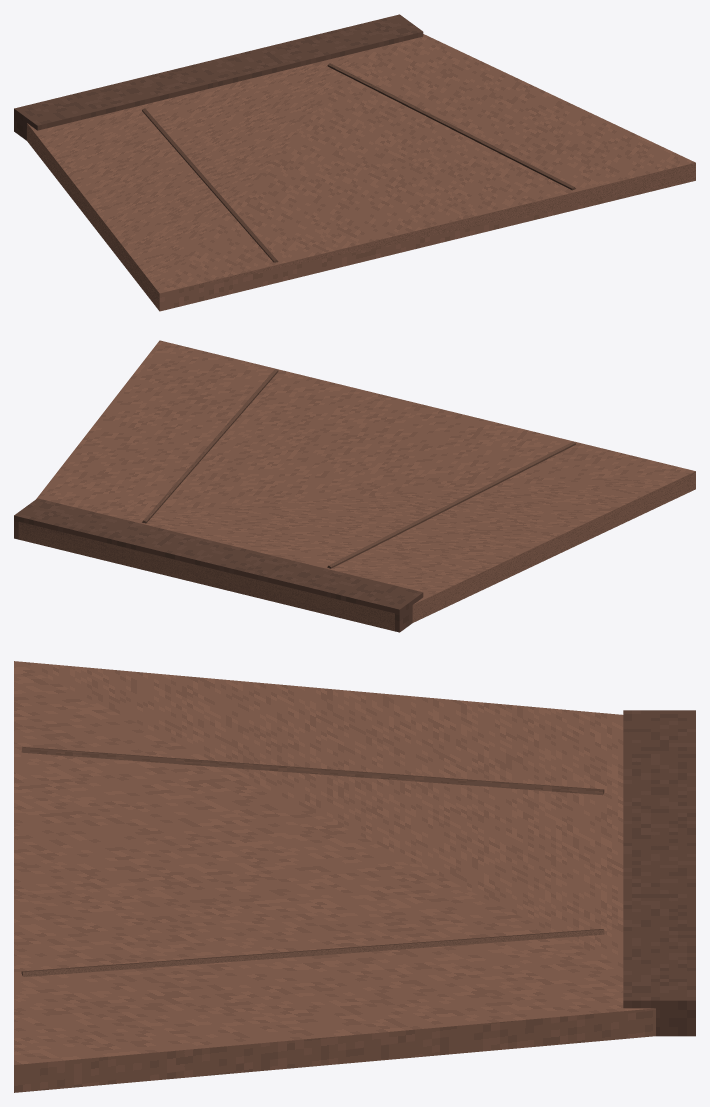
File: skirt.glb
The picture shows the model from 3 angles, top to bottom: view 1: azimuth 30°, elevation 25°; view 2: azimuth 150°, elevation 25°; view 3: azimuth 270°, elevation 25°; orthographic projection. The views are drawn at different scales.
Visible parts, largest first — view 1: block_pleated panel, block_waistband, block_pleat 1 0, block_pleat -1 0; view 2: block_pleated panel, block_waistband, block_pleat -1 0, block_pleat 1 0; view 3: block_pleated panel, block_waistband, block_pleat 1 0, block_pleat -1 0.
Part boxes in pixels (left/top/right/bottom): block_pleated panel: left=27, top=34, right=695, bottom=311; block_waistband: left=14, top=14, right=423, bottom=140; block_pleat 1 0: left=327, top=63, right=575, bottom=190; block_pleat -1 0: left=142, top=108, right=278, bottom=262; block_pleated panel: left=18, top=340, right=695, bottom=631; block_waistband: left=14, top=498, right=423, bottom=632; block_pleat -1 0: left=327, top=441, right=575, bottom=568; block_pleat 1 0: left=142, top=369, right=278, bottom=523; block_pleated panel: left=14, top=661, right=655, bottom=1092; block_waistband: left=623, top=710, right=695, bottom=1036; block_pleat 1 0: left=21, top=929, right=604, bottom=976; block_pleat -1 0: left=21, top=747, right=604, bottom=795.
Bounding box in the file's own units: 0.342 × 0.014 × 0.244.
1 material, 1 textured.
